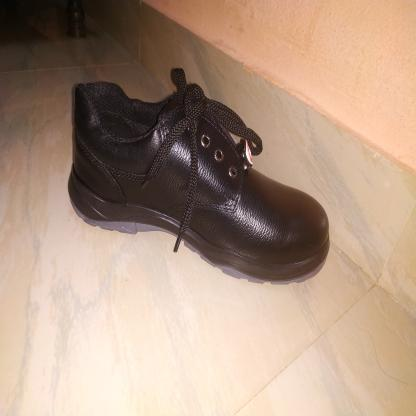bota: (65, 64, 333, 289)
